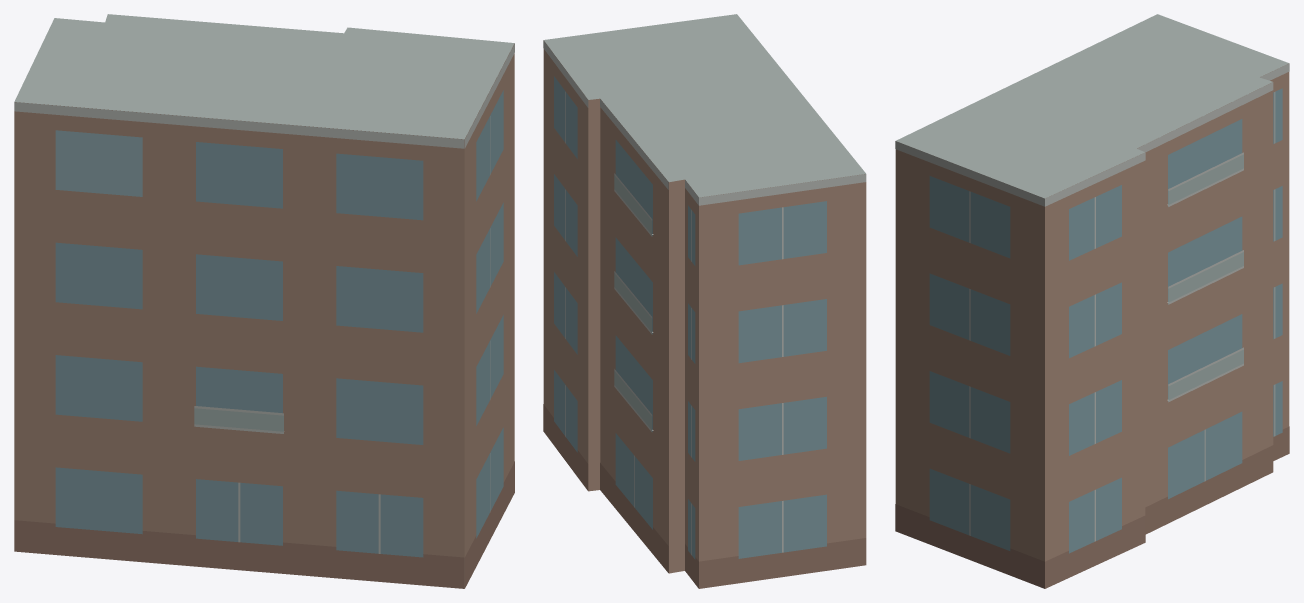
Rendered from survey-upis-32935273.glb.
The picture shows the model from 3 angles, left to right: view 1: azimuth 30°, elevation 25°; view 2: azimuth 150°, elevation 25°; view 3: azimuth 270°, elevation 25°; orthographic projection. The views are drawn at different scales.
Parts seen in each view (by area): view 1: survey-upis-32935273.tmp; view 2: survey-upis-32935273.tmp; view 3: survey-upis-32935273.tmp.
Boxes of the visible parts, <box> form: survey-upis-32935273.tmp: <box>14,14,514,588</box>; survey-upis-32935273.tmp: <box>543,14,866,588</box>; survey-upis-32935273.tmp: <box>895,14,1289,588</box>.
Size of the model in its own units: 11.77 by 11.6 by 10.62.
